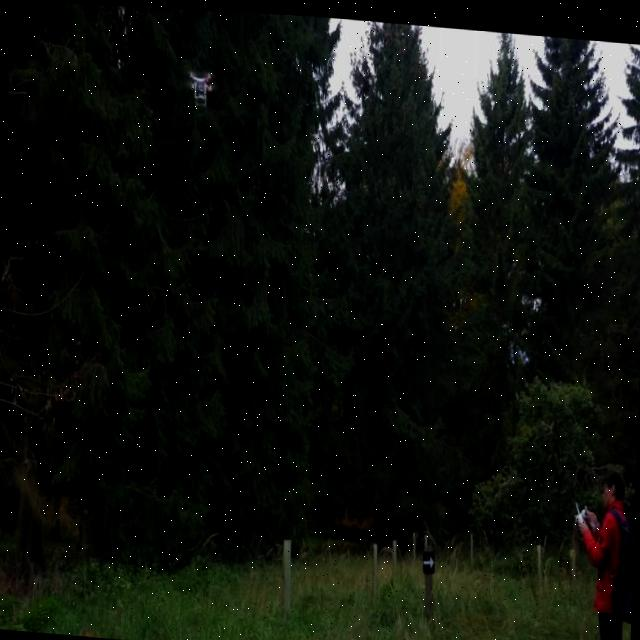drone: (187, 64, 214, 104)
